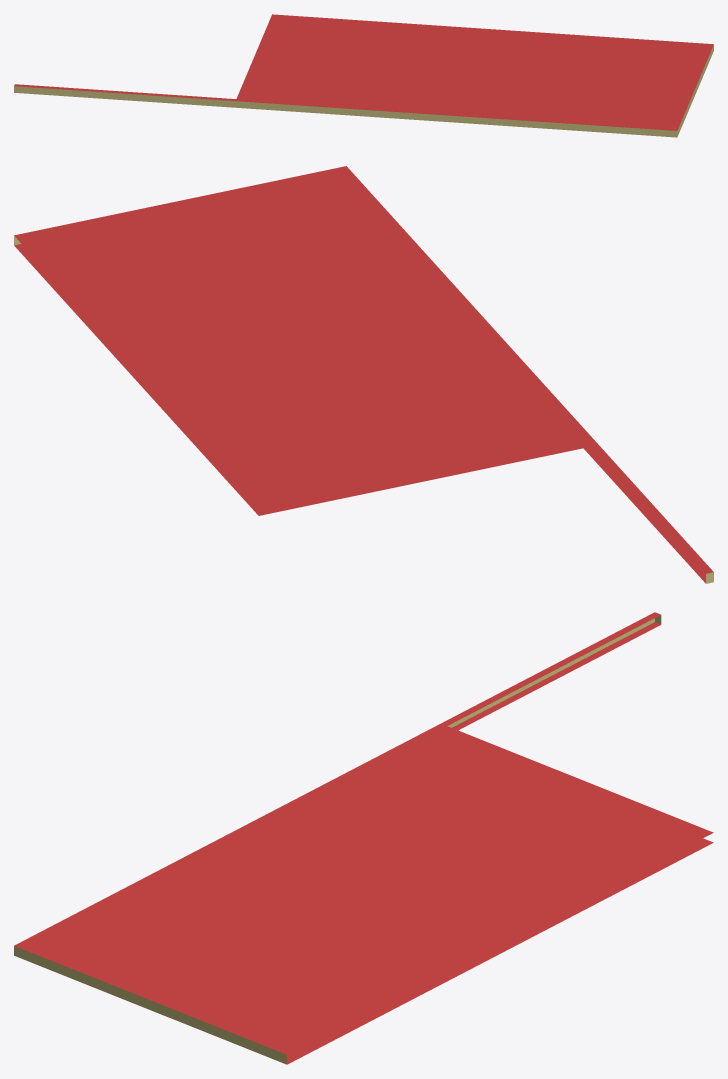
The picture shows the model from 3 angles, top to bottom: view 1: azimuth 30°, elevation 25°; view 2: azimuth 150°, elevation 25°; view 3: azimuth 270°, elevation 25°; orthographic projection. The views are drawn at different scales.
Bounding box in the file's own units: 9.2 × 6.37 × 0.255.
